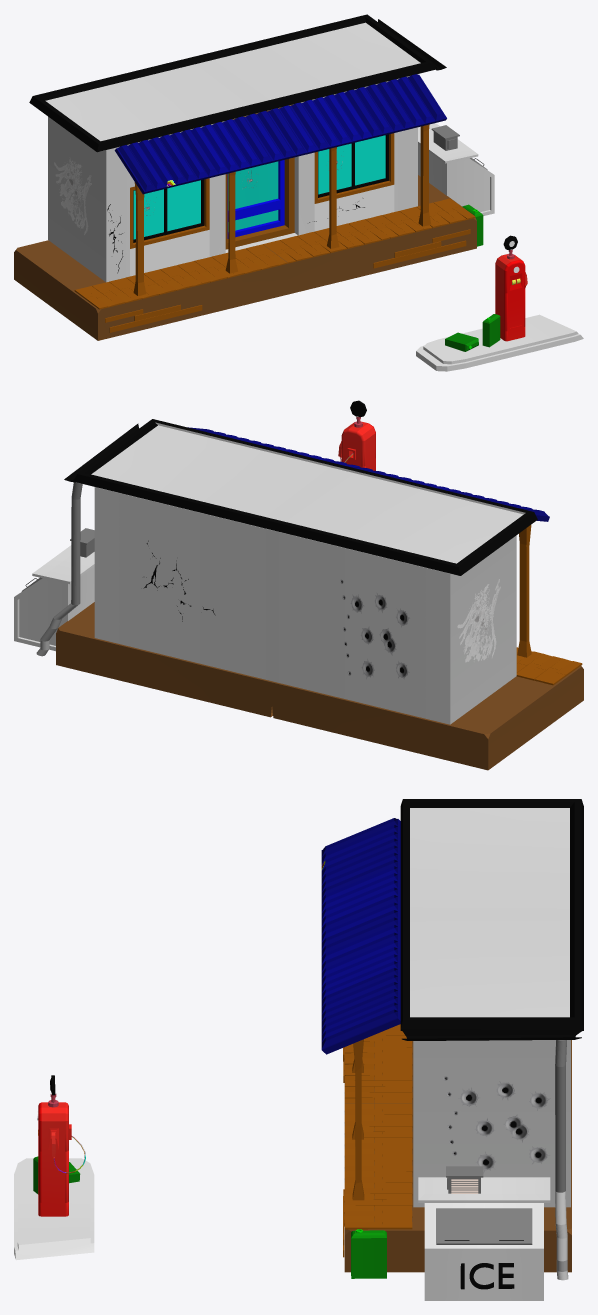
The model's file is SM_Bld_ServiceStation.fbx.
The picture shows the model from 3 angles, top to bottom: view 1: azimuth 30°, elevation 25°; view 2: azimuth 150°, elevation 25°; view 3: azimuth 270°, elevation 25°; orthographic projection. The views are drawn at different scales.
Parts seen in each view (by area): view 1: SM_Bld_ServiceStation, SM_Bld_PetrolPump; view 2: SM_Bld_ServiceStation, SM_Bld_PetrolPump; view 3: SM_Bld_ServiceStation, SM_Bld_PetrolPump.
Boxes of the visible parts, <box> form: SM_Bld_ServiceStation: <box>14,14,494,340</box>; SM_Bld_PetrolPump: <box>416,235,583,371</box>; SM_Bld_ServiceStation: <box>14,419,583,770</box>; SM_Bld_PetrolPump: <box>338,400,375,470</box>; SM_Bld_ServiceStation: <box>321,799,583,1300</box>; SM_Bld_PetrolPump: <box>14,1075,94,1260</box>.
Bounding box in the file's own units: 1137 × 447 × 969.
